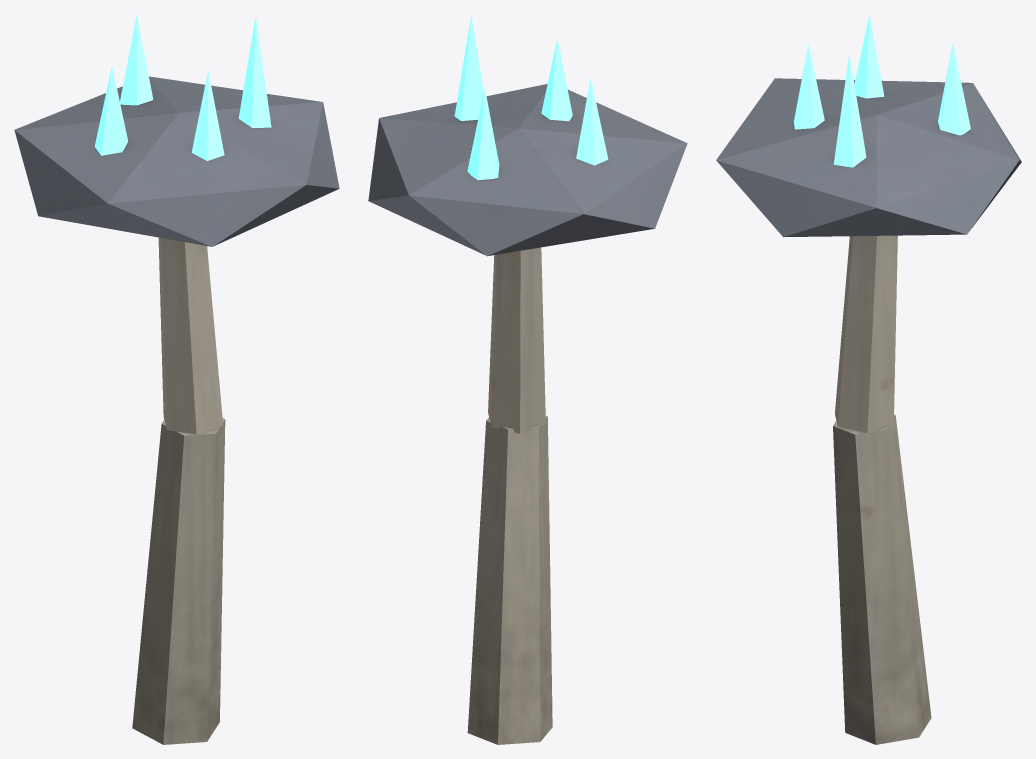
File: arv_fungo_cristal_6.glb
3 renders of one model, left to right at view 1: azimuth 30°, elevation 25°; view 2: azimuth 150°, elevation 25°; view 3: azimuth 270°, elevation 25°, orthographic. The views are drawn at different scales.
Parts seen in each view (by area): view 1: arv_fungo_cristal_6; view 2: arv_fungo_cristal_6; view 3: arv_fungo_cristal_6.
Part boxes in pixels (<box>): arv_fungo_cristal_6: <box>14,14,339,744</box>; arv_fungo_cristal_6: <box>368,15,687,744</box>; arv_fungo_cristal_6: <box>716,14,1021,744</box>.
Bounding box in the file's own units: 0.8019 × 1.92 × 0.7554.
Materials: 2 (1 with a texture image).
